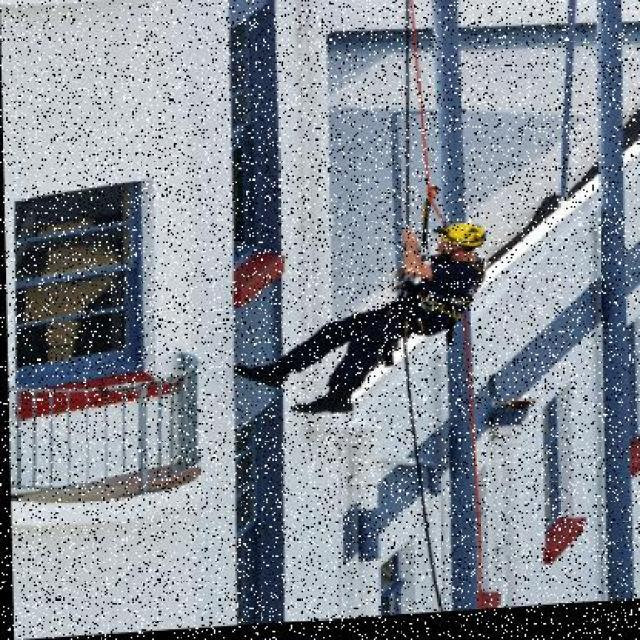helmet: (433, 223, 486, 265)
